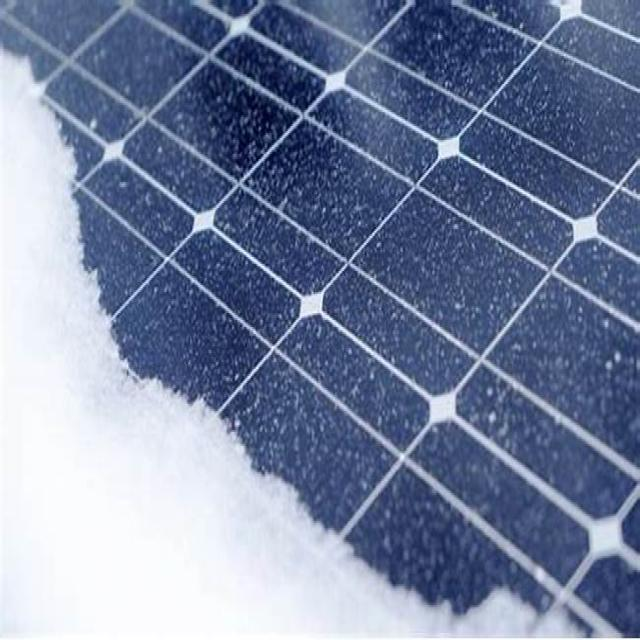snow covered: (5, 32, 636, 640)
